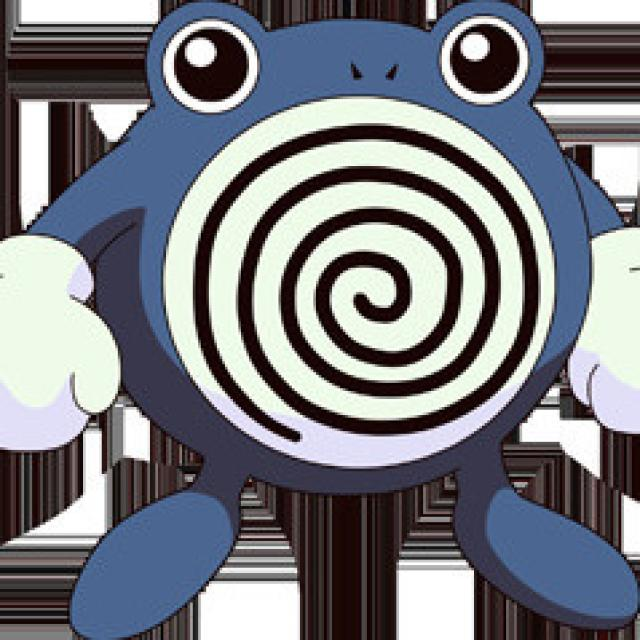Poliwhirl: (29, 10, 632, 567)
